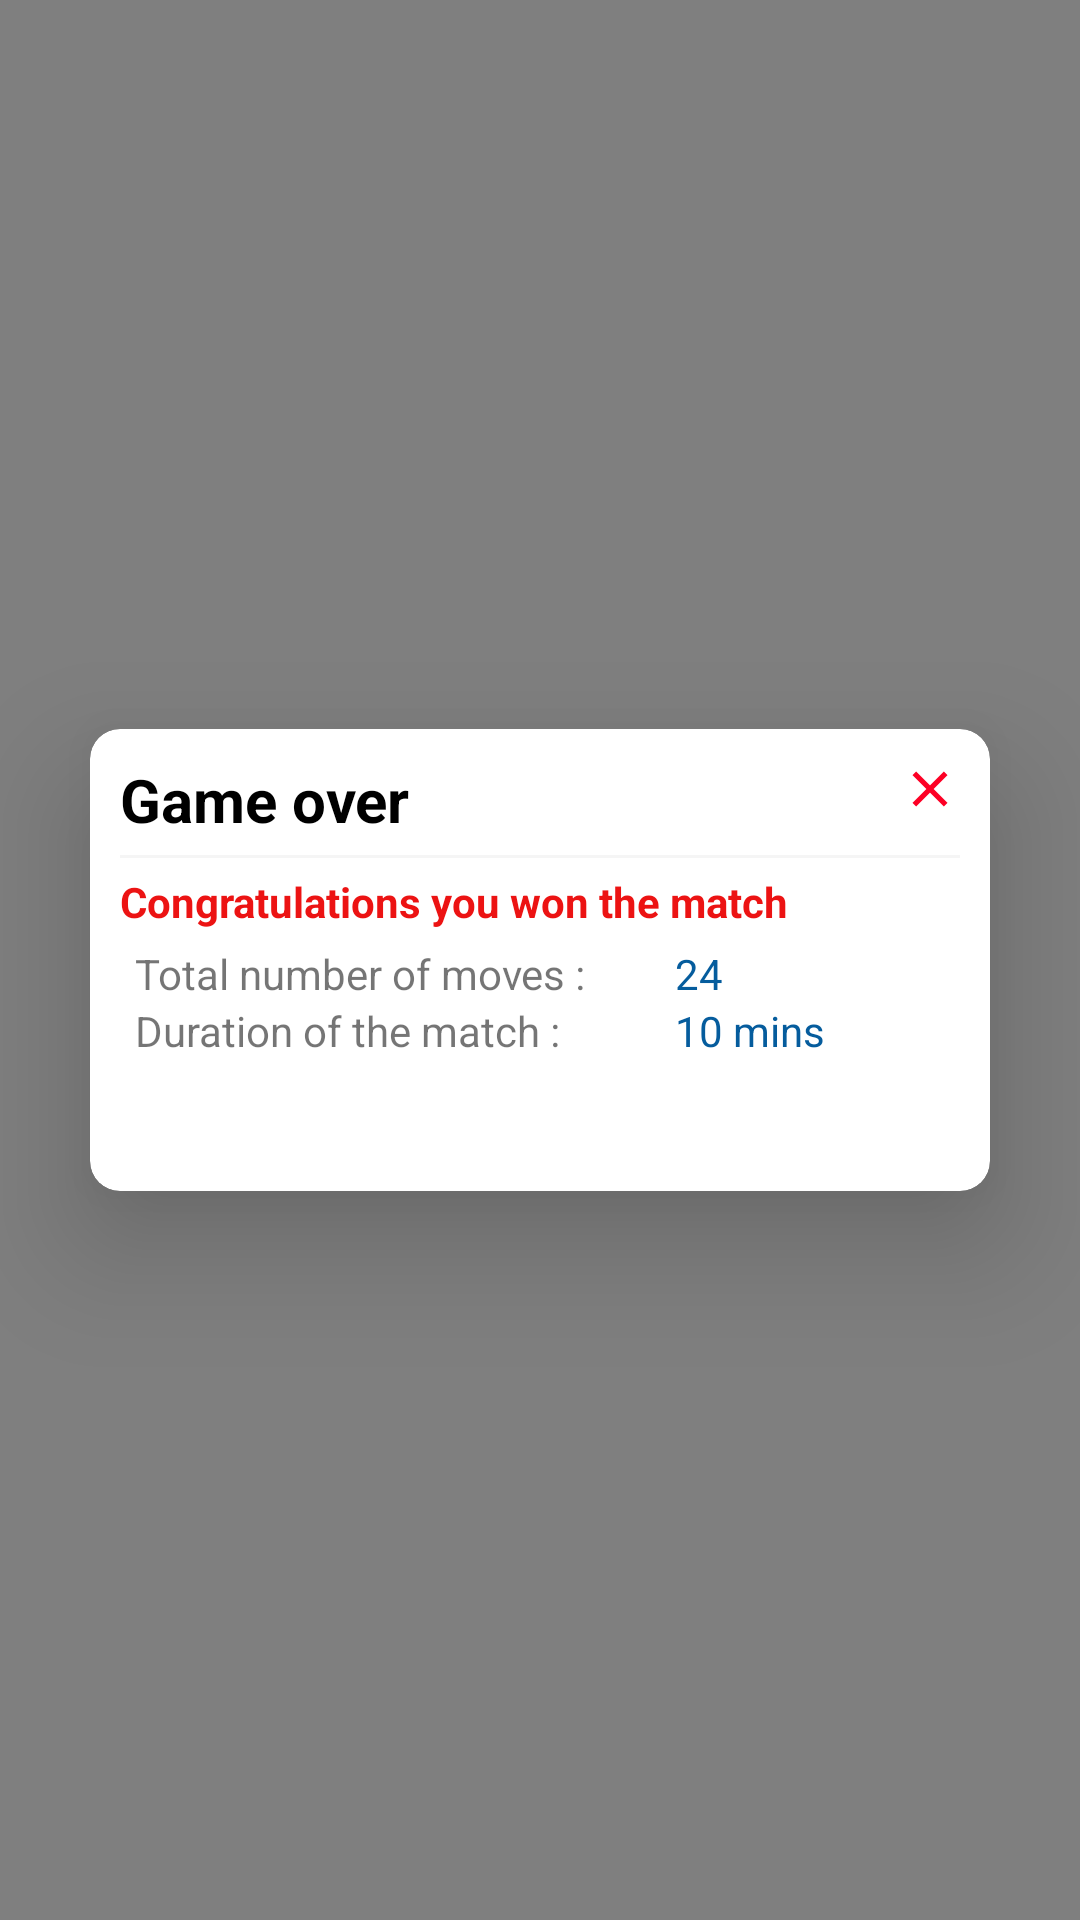

Icons on this 1080px×1920px Android screen, each with its box as [x1=x1, y1=y1, x2=x2, y2=y2]:
close: [x1=912, y1=771, x2=948, y2=807]
